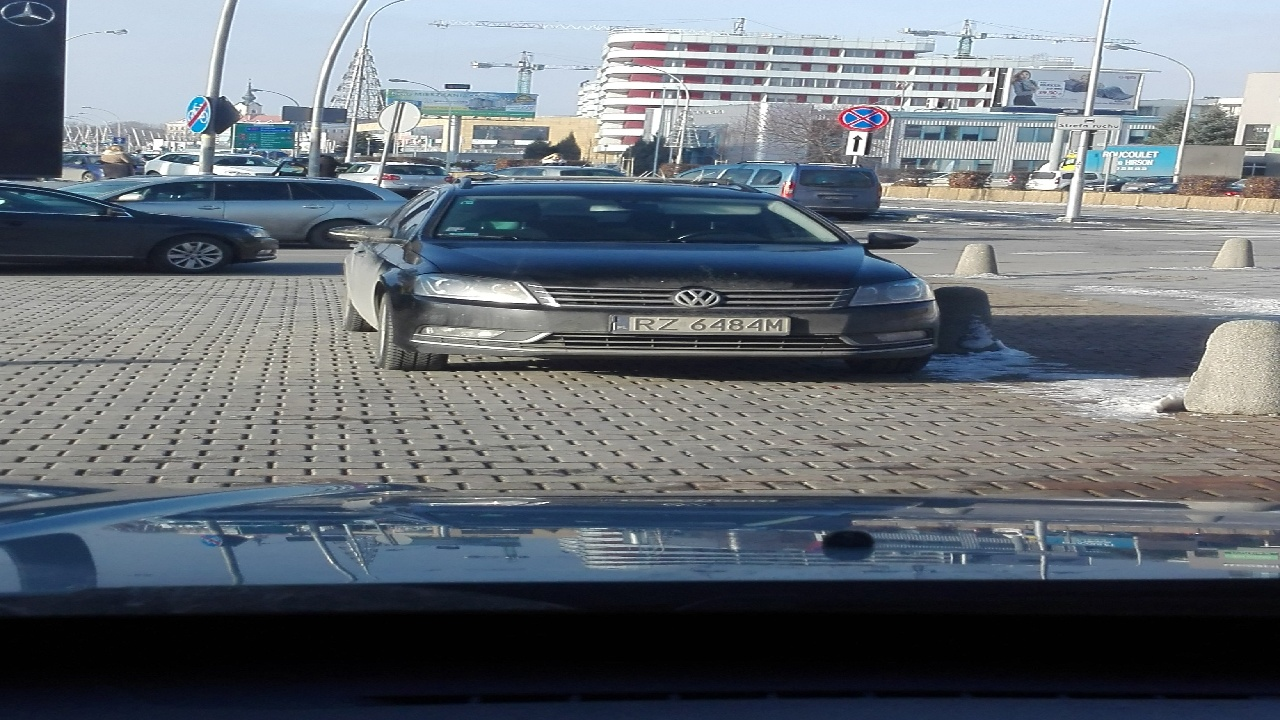B35: (837, 98, 893, 135)
